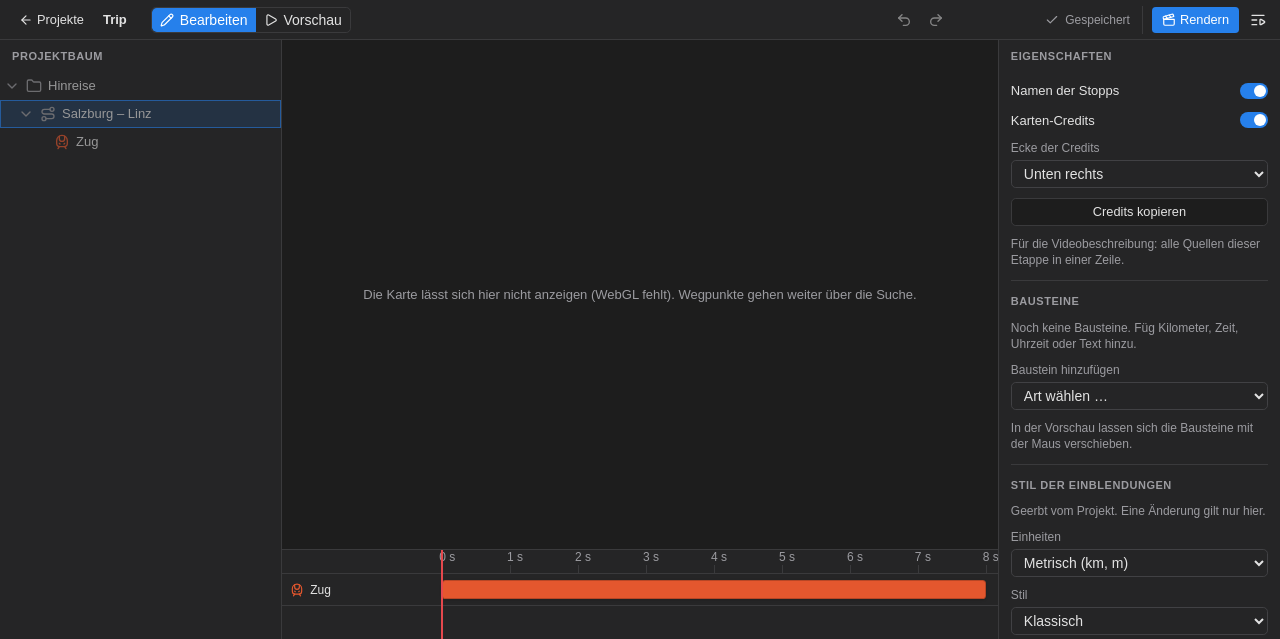
overlay blocks in the inspector › brings a clock along with a clock block and says what it needs
(page scrolled)
Expected: the heading "Trip" is shown, [103,10,127,29]
Select "Uhrzeit" in the dropdown labelled "Baustein hinzufügen" at (1139, 396), box [1011,382,1268,410]
(page scrolled)
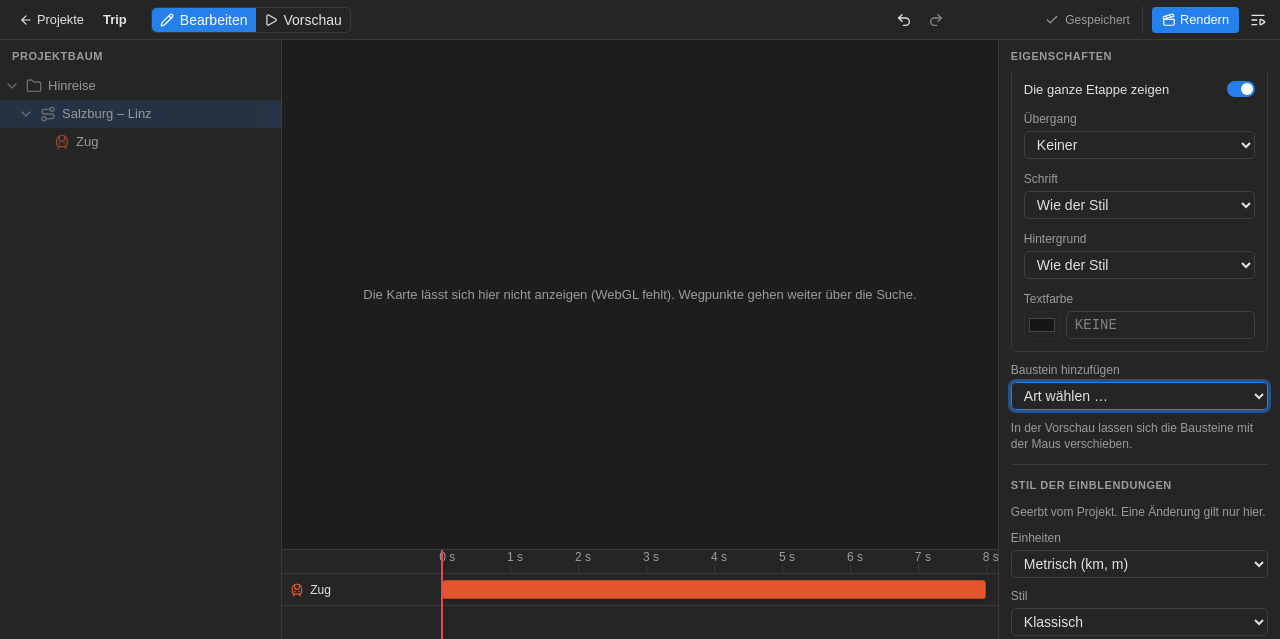
# Speed needs a recording, and says so under its row.
Select "Geschwindigkeit" in the dropdown labelled "Baustein hinzufügen" at (1139, 396), box [1011,382,1268,410]
(page scrolled)
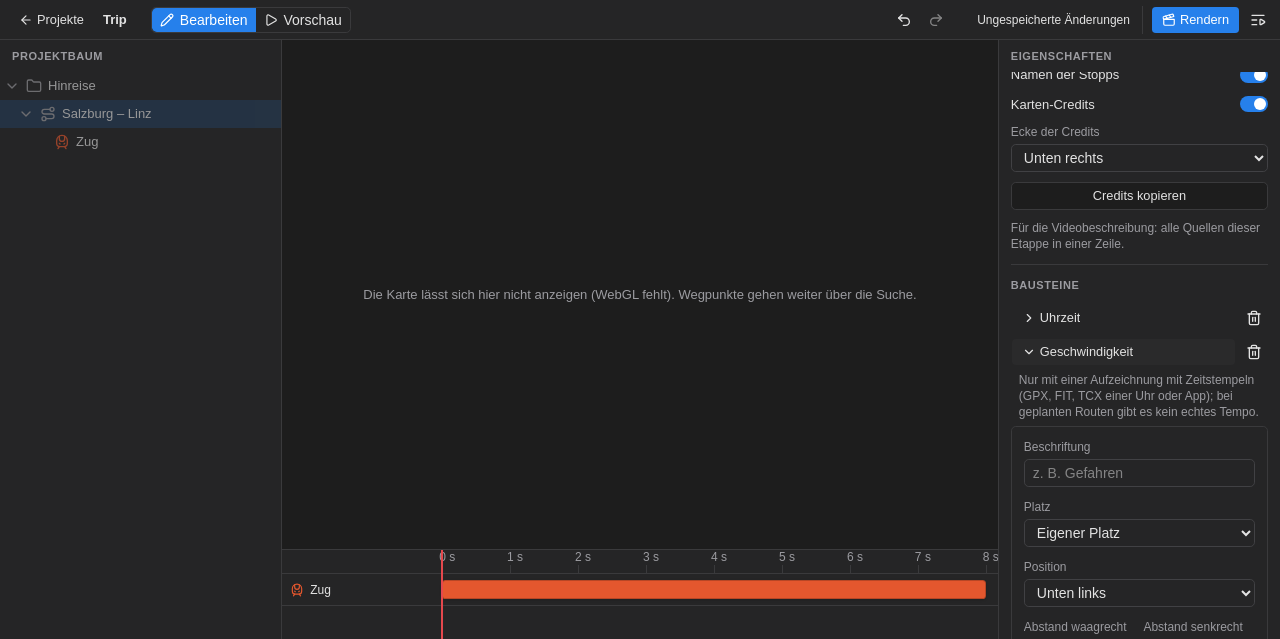
Result: the text "Nur mit einer Aufzeichnung mit Zeitstempeln" is shown at [1019,372,1259,418]
